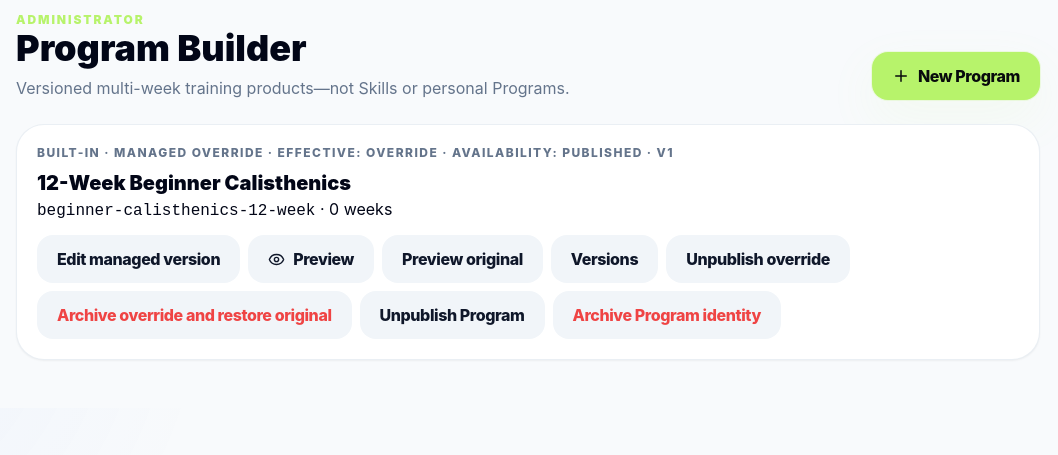
Admin Managed Program lifecycle UI › renders a localized safe error instead of leaving a rejected mutation uncaught
Click the button "Unpublish override": (758, 259) [666, 235, 850, 283]
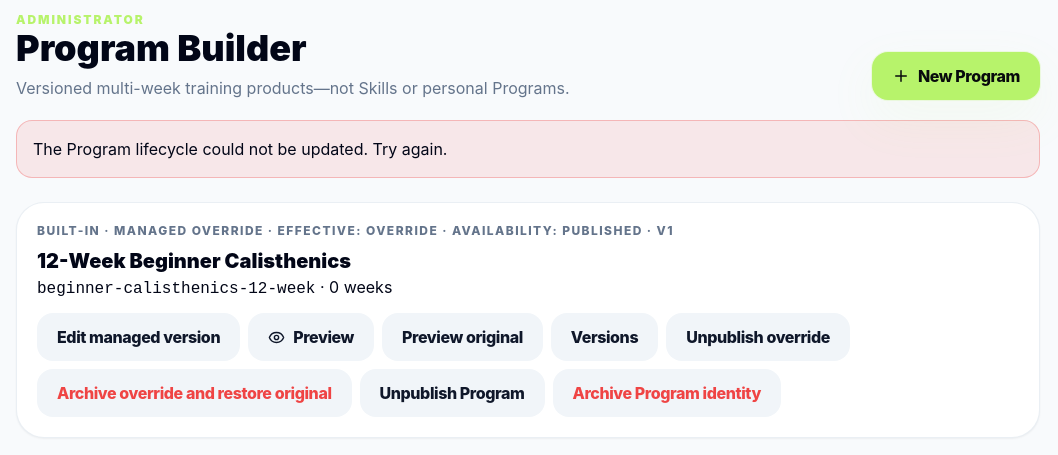
Expected: the message reads "The Program lifecycle could not be updated. Try again.", [33, 139, 447, 159]
